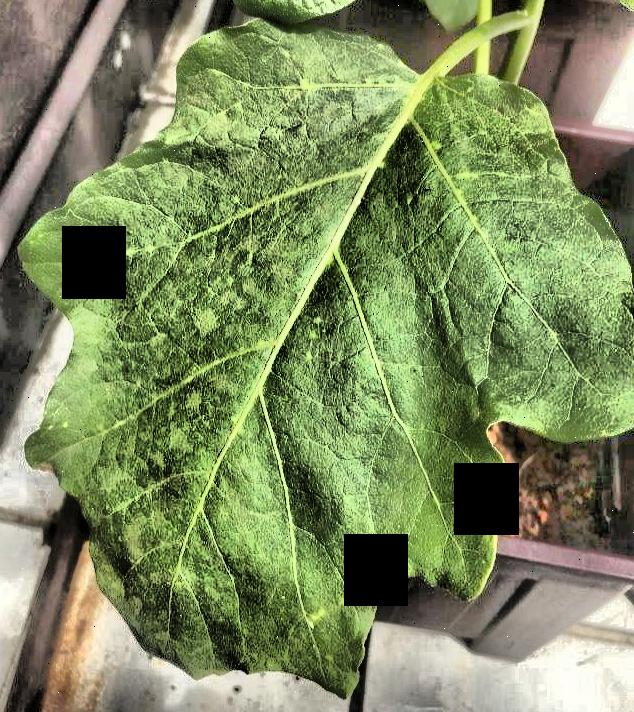HEALTHY: (1, 0, 634, 712)
